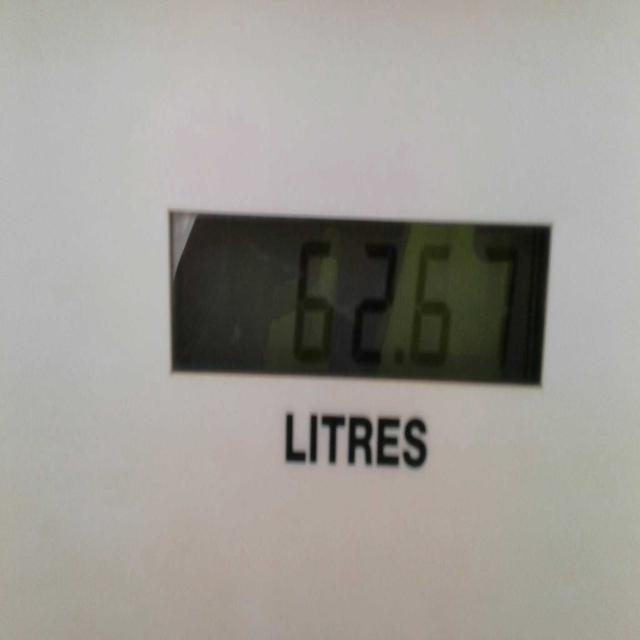.: (387, 336, 408, 378)
2: (351, 227, 399, 374)
6: (284, 218, 342, 378), (410, 235, 460, 377)
7: (475, 231, 521, 373)
